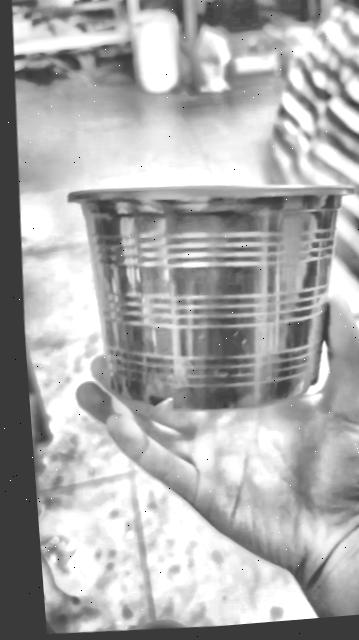pot: (69, 184, 353, 408)
